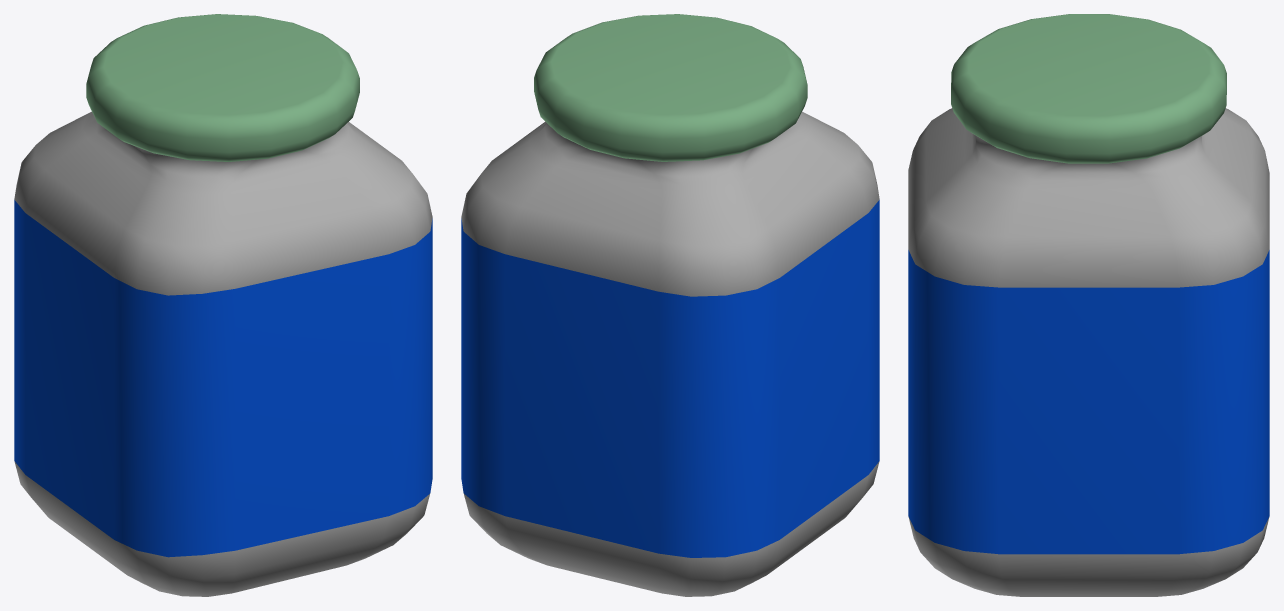
The model's file is S2_RaspberryJam.fbx.
3 renders of one model, left to right at view 1: azimuth 30°, elevation 25°; view 2: azimuth 150°, elevation 25°; view 3: azimuth 270°, elevation 25°, orthographic.
Visible parts, largest first — view 1: S2_RaspberryJam; view 2: S2_RaspberryJam; view 3: S2_RaspberryJam.
Part boxes in pixels (x1=…): S2_RaspberryJam: x1=14, y1=14, x2=432, y2=596; S2_RaspberryJam: x1=461, y1=14, x2=879, y2=596; S2_RaspberryJam: x1=908, y1=14, x2=1269, y2=596.
Bounding box in the file's own units: 812 × 1190 × 812.
